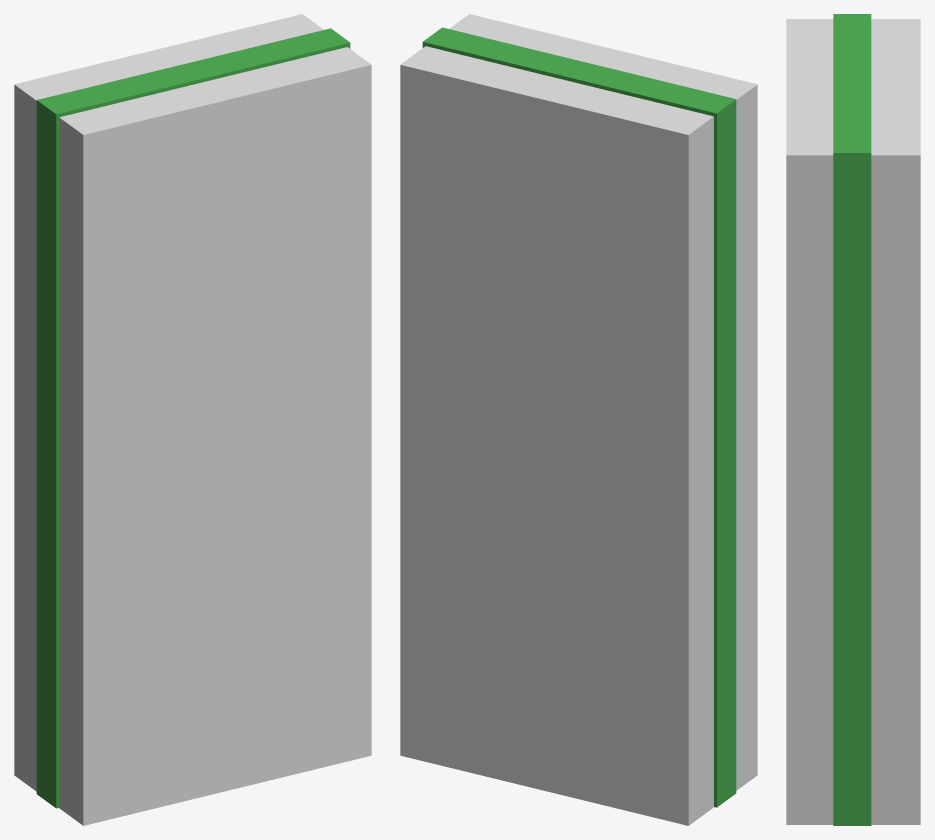
3 renders of one model, left to right at view 1: azimuth 30°, elevation 25°; view 2: azimuth 150°, elevation 25°; view 3: azimuth 270°, elevation 25°, orthographic. The views are drawn at different scales.
Visible parts, largest first — view 1: cutout, door_Cube.030; view 2: cutout, door_Cube.030; view 3: cutout, door_Cube.030.
Boxes of the visible parts, x1,y1,x2,y2 form: cutout: (14, 14, 371, 825); door_Cube.030: (36, 28, 350, 808); cutout: (400, 14, 757, 825); door_Cube.030: (422, 27, 736, 807); cutout: (786, 19, 920, 824); door_Cube.030: (833, 14, 871, 825).
Bounding box in the file's own units: 4.42 × 9.97 × 1.8.
